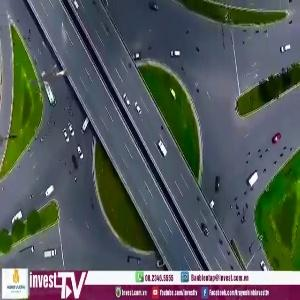drone: (14, 42, 94, 122)
